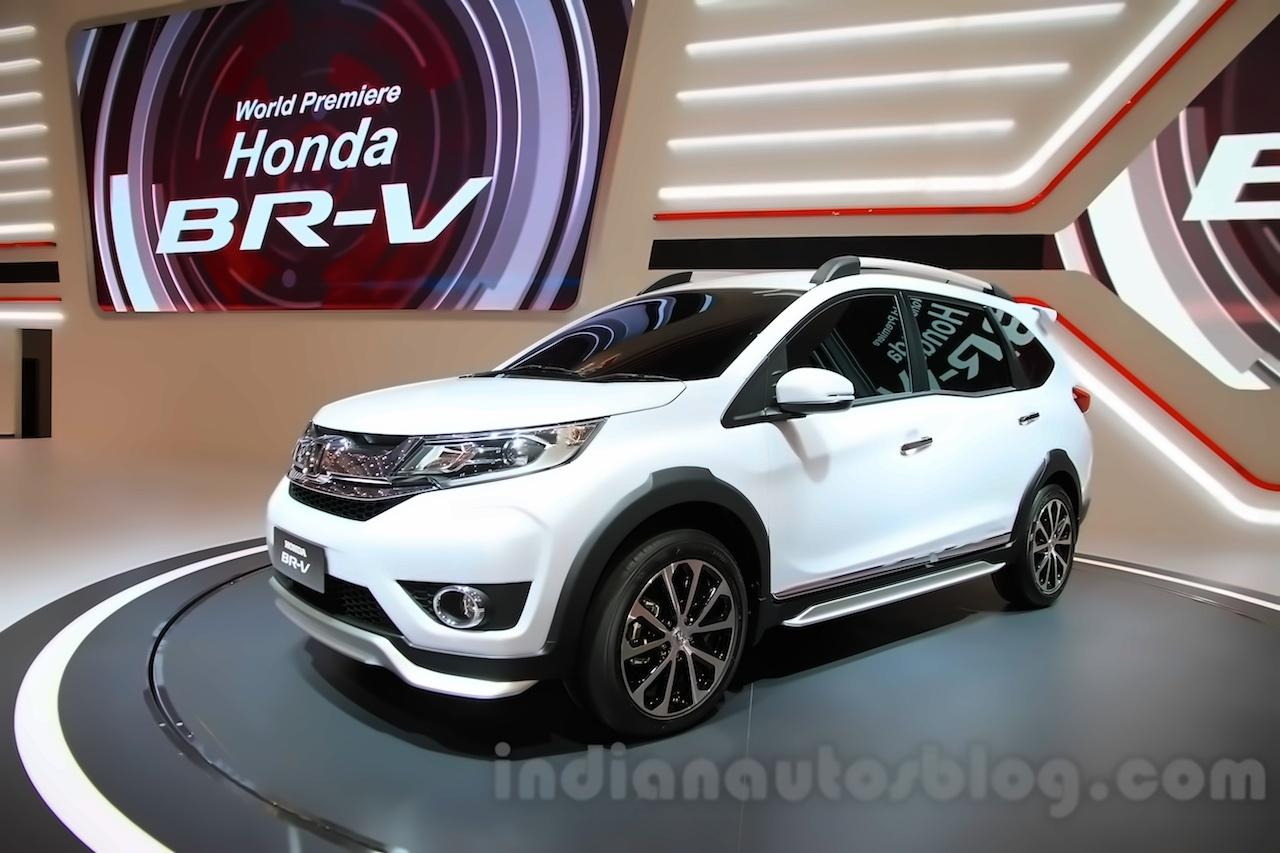Car hood: (304, 376, 693, 432)
Fender - -F-L-: (586, 389, 783, 645)
Fender - -R-L-: (1009, 326, 1096, 574)
Front bumper: (263, 464, 600, 697)
Headlight - -L-: (387, 412, 610, 486)
Passenger-s door - -F-L-: (773, 259, 947, 644)
Passenger-s door - -R-L-: (886, 263, 1040, 632)
Rear light - -L-: (1061, 387, 1100, 422)
Side bumper - -L-: (757, 523, 1019, 659)
Side mirror - -L-: (747, 356, 858, 422)
